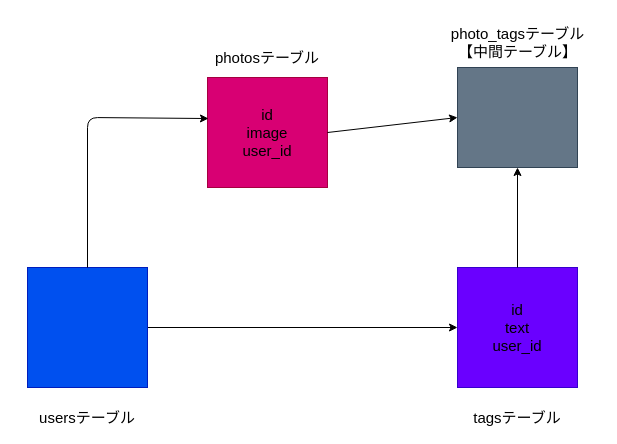
Some shapes in this 617 by 444 pixel diagram are drawn without their labels. The shapes that lost their labels are listed below. From the top down, each one's centre as x and y in pixels, then its label:
At (517,117): "id photo_id tag_id".
At (87,327): "id name email password".
